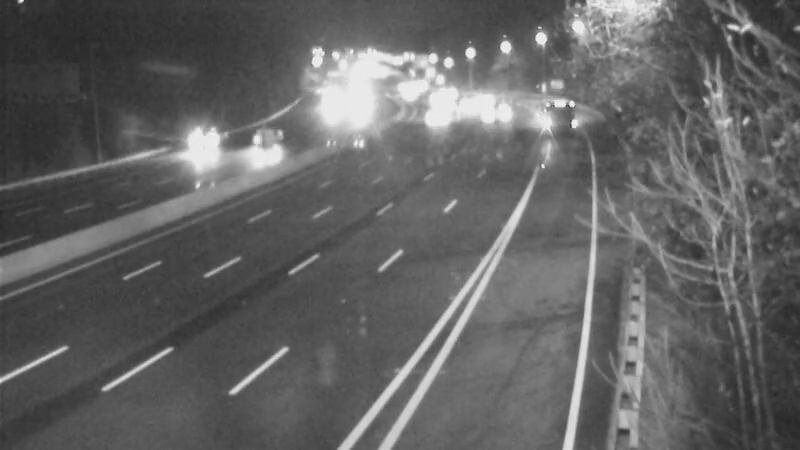vehicle: (423, 65, 473, 115), (411, 74, 461, 124), (459, 74, 509, 124), (417, 83, 467, 133), (446, 86, 496, 136), (526, 82, 576, 132), (468, 88, 518, 138), (407, 94, 457, 144), (176, 121, 226, 171), (237, 123, 287, 173)
